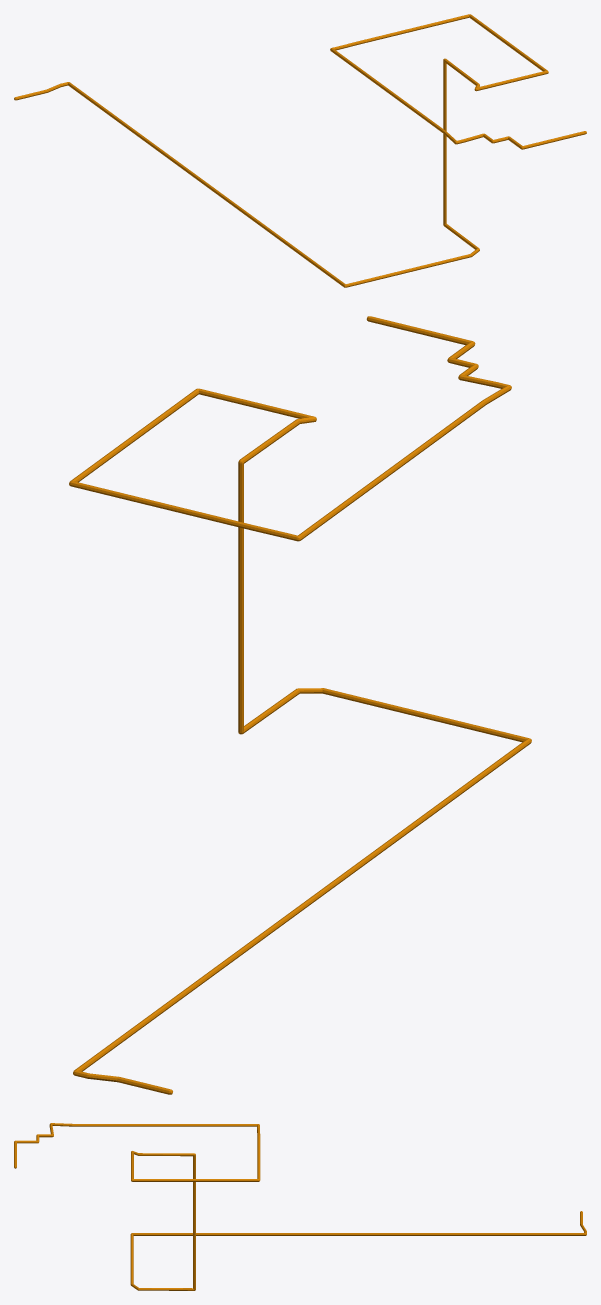
3 renders of one model, top to bottom at view 1: azimuth 30°, elevation 25°; view 2: azimuth 150°, elevation 25°; view 3: azimuth 270°, elevation 25°, orthographic. The views are drawn at different scales.
Bounding box in the file's own units: 1656 × 1020 × 3854.
